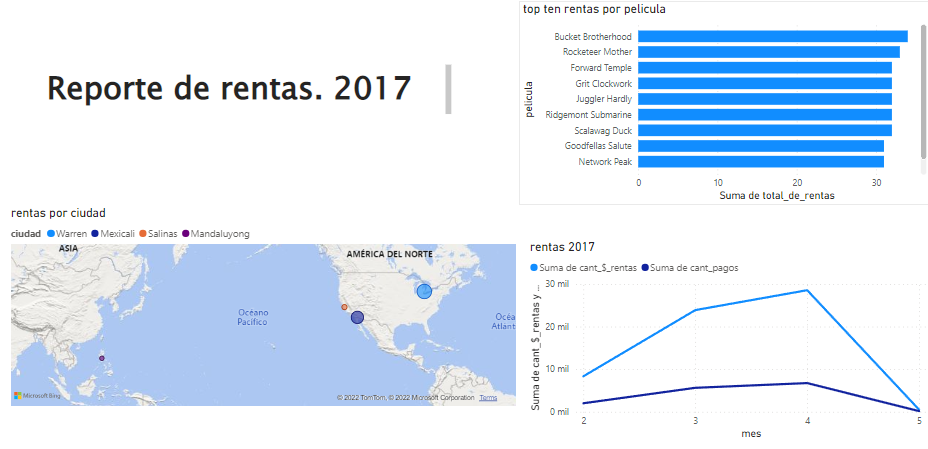

The page's visual inventory and layout, read from the dashboard file:
{"tool":"powerbi","page":{"name":"Página 1","canvas":[1280,720],"ordinal":0},"visuals":[{"type":"barChart","title":"top ten rentas por pelicula ","fields":{"Category":["top_ten_rentas_peliculas.pelicula"],"Y":["Sum(top_ten_rentas_peliculas.total_de_rentas)"]},"box":[714.3,33,565.7,280.8],"z":0},{"type":"map","title":"rentas por ciudad","fields":{"Category":["rentas_por_ciudad.ciudad"],"Size":["Sum(rentas_por_ciudad.renta_por_ciudad)"],"Series":["rentas_por_ciudad.ciudad"]},"box":[9.6,313.8,704.7,282.2],"z":1},{"type":"lineChart","title":"rentas 2017","fields":{"Category":["rentas_por_mes.mes"],"Y":["Sum(rentas_por_mes.cant_$_rentas)","Sum(rentas_por_mes.cant_pagos)"]},"box":[724,360.6,556,280.8],"z":2},{"type":"textbox","box":[59.2,115.6,567.1,85.3],"z":3}]}

Visuals, with their boxes on the page's 1280x720 design canvas (x1, y1, x2, y2). These are canvas units, not pixel positions in the 928x449 screenshot, which may show the page scaled, cropped or inside an application window:
"top ten rentas por pelicula " barChart: select_region(714, 33, 1280, 314)
"rentas por ciudad" map: select_region(10, 314, 714, 596)
"rentas 2017" lineChart: select_region(724, 361, 1280, 641)
textbox: select_region(59, 116, 626, 201)
